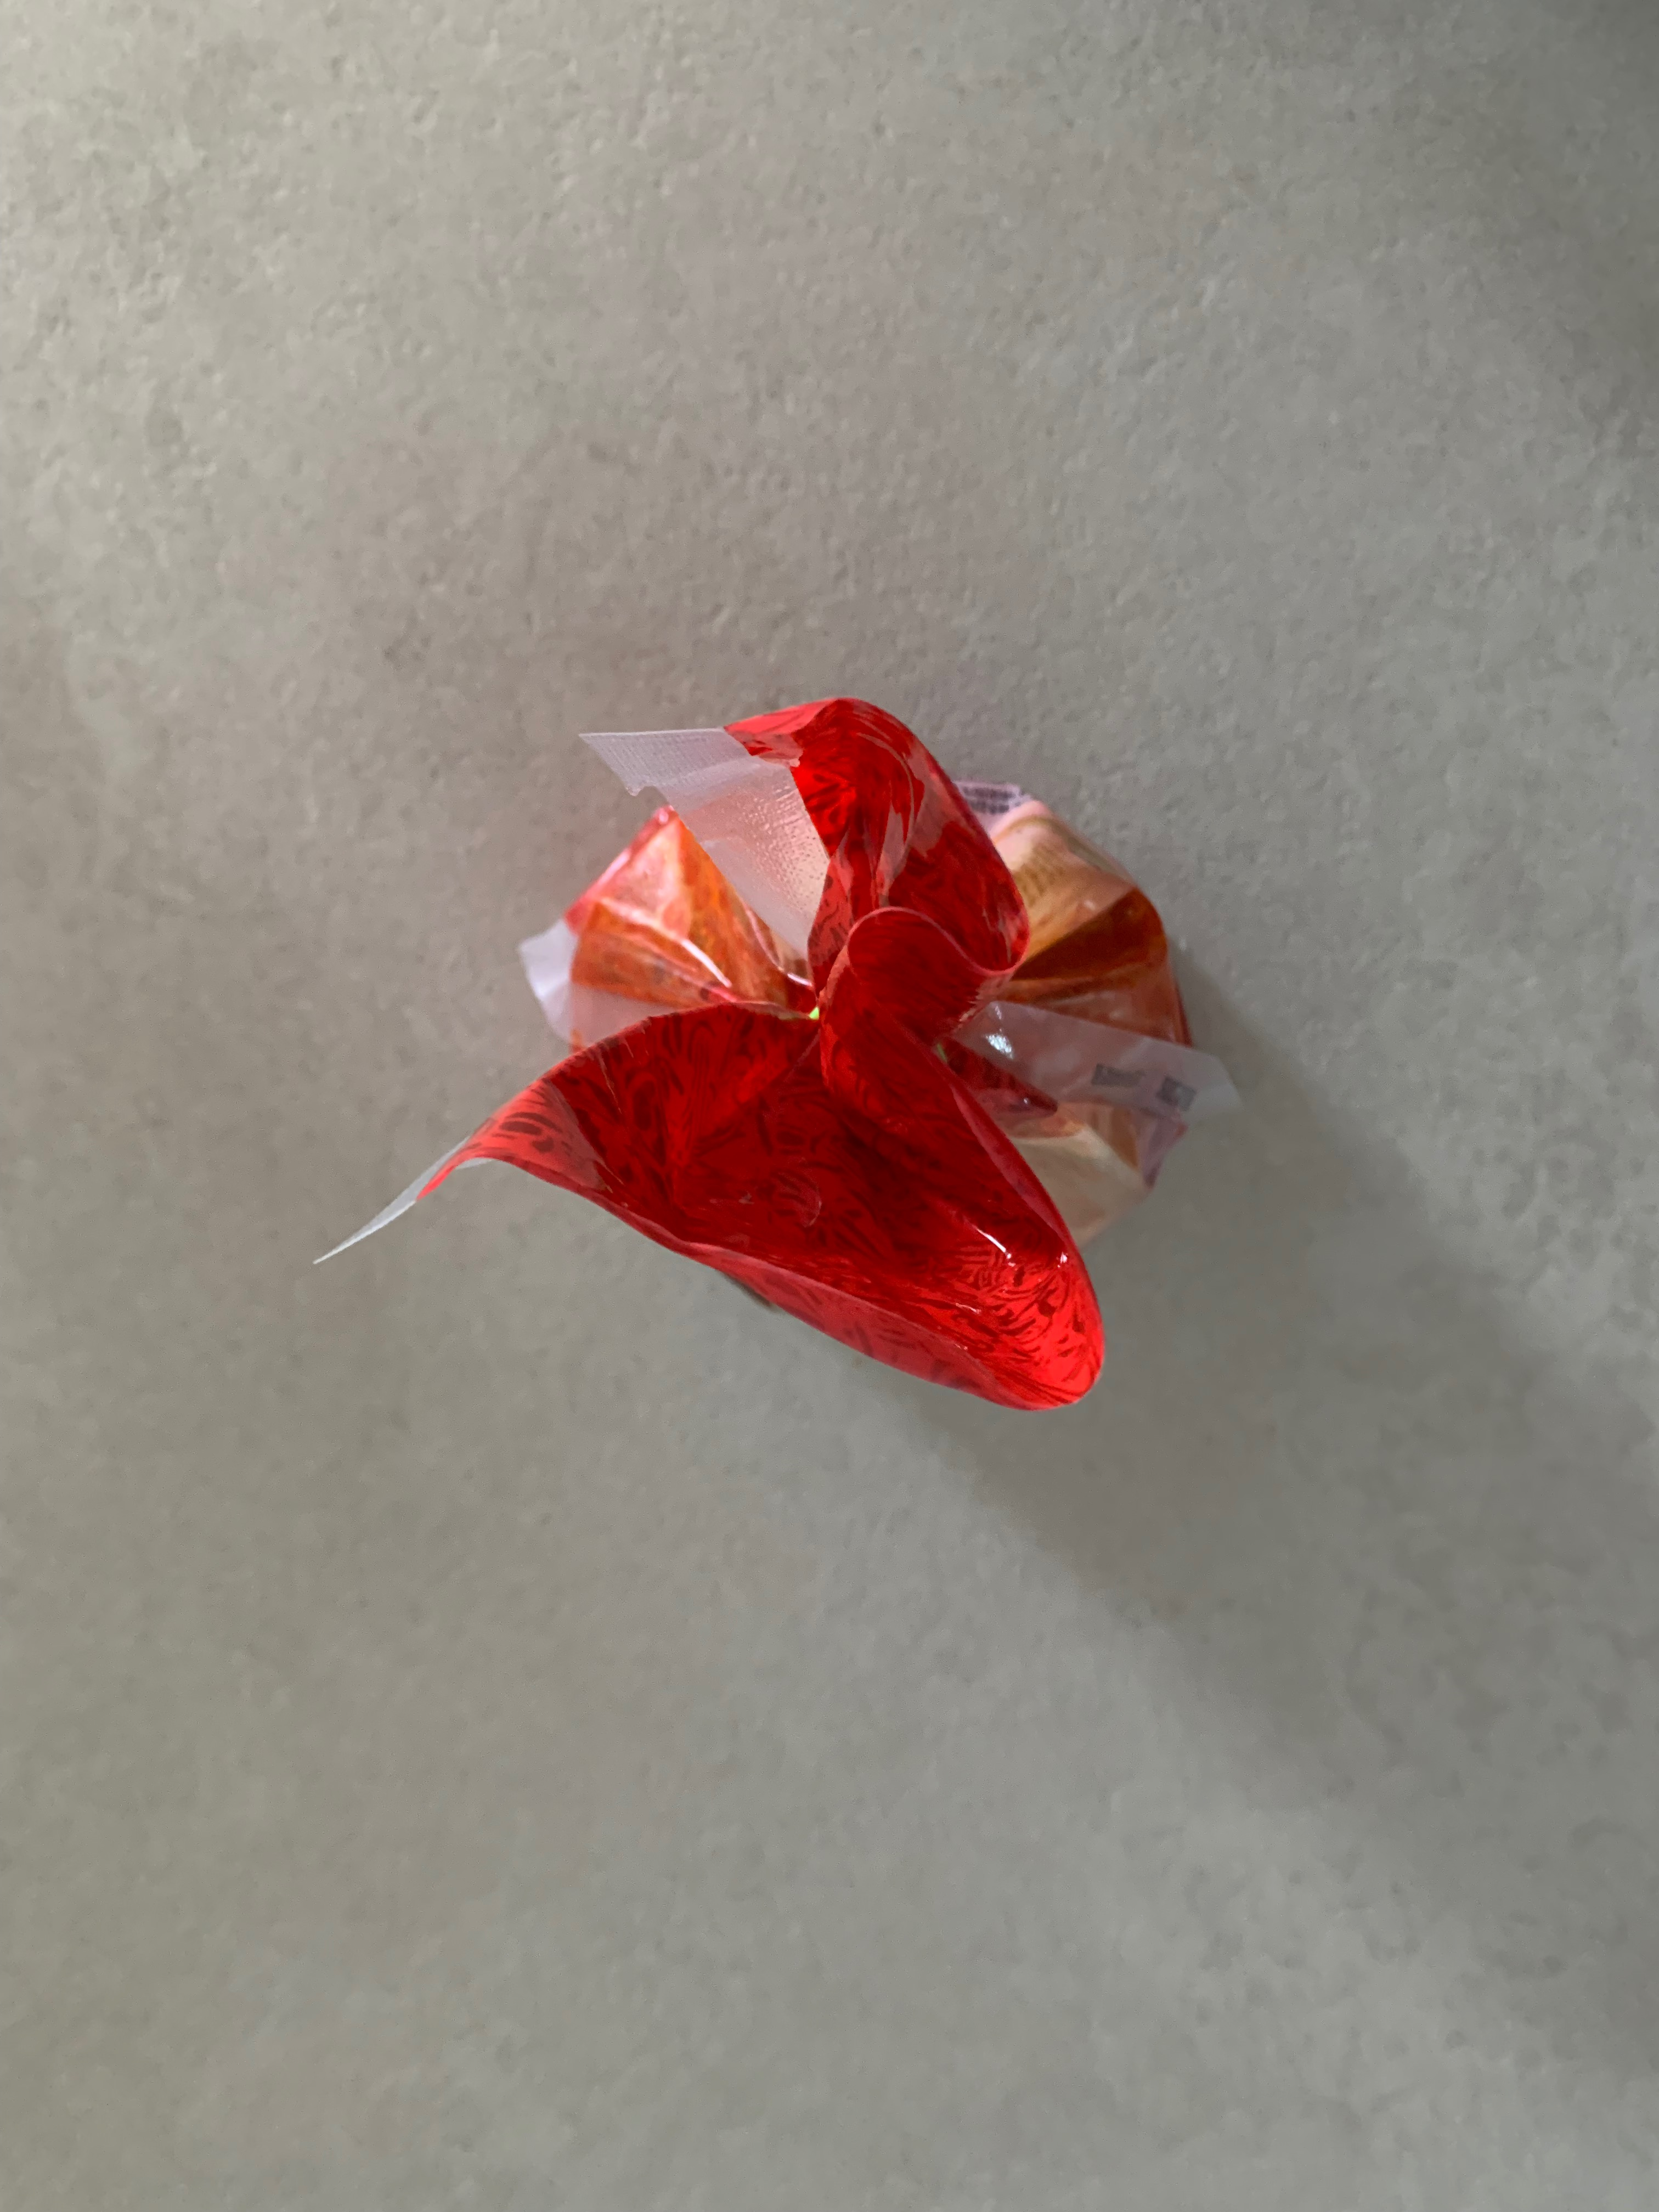kimchi: (460, 695, 1194, 1416)
